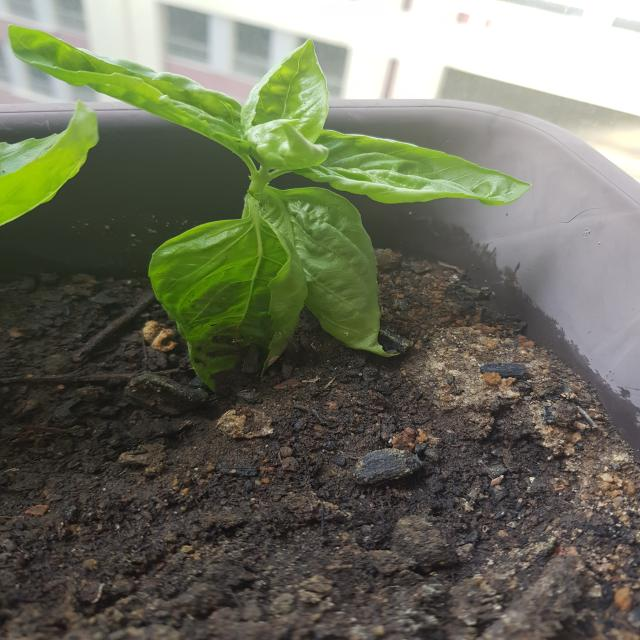Sweet Basil: (6, 20, 543, 391)
